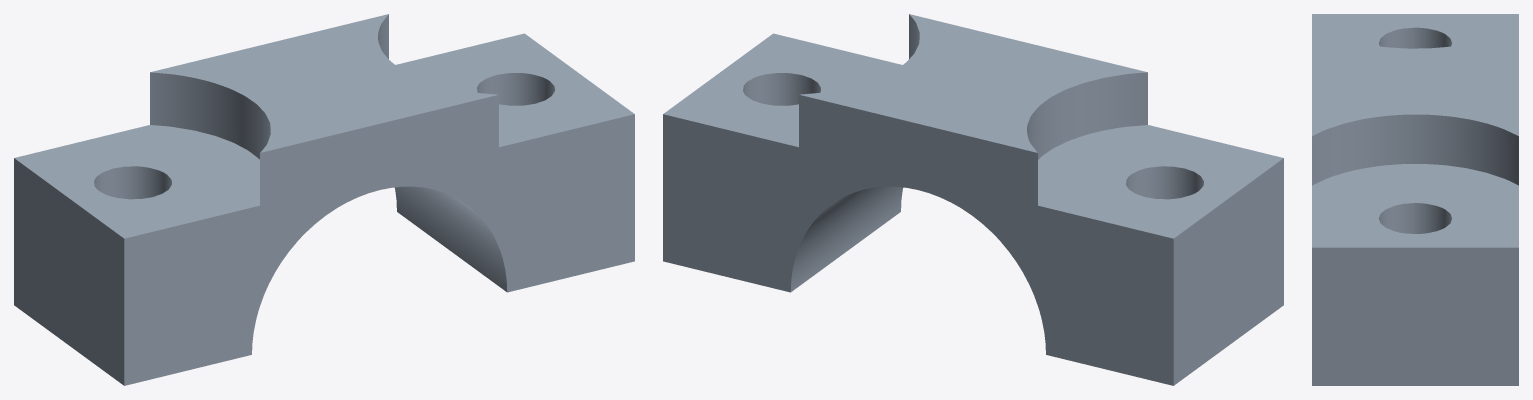
The model's file is cam_shaft_housing.obj.
3 views of the same model, side by side, from view 1: azimuth 30°, elevation 25°; view 2: azimuth 150°, elevation 25°; view 3: azimuth 270°, elevation 25° (orthographic). The views are drawn at different scales.
Parts seen in each view (by area): view 1: 1; view 2: 1; view 3: 1.
Boxes of the visible parts, bbox=[...] form: 1: bbox=[14, 14, 634, 385]; 1: bbox=[663, 14, 1283, 385]; 1: bbox=[1312, 14, 1518, 385].
Bounding box in the file's own units: 50.8 × 19 × 19.
